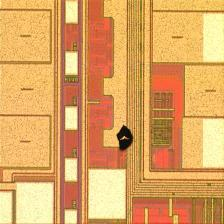PARTICLE: (114, 122, 138, 153)
